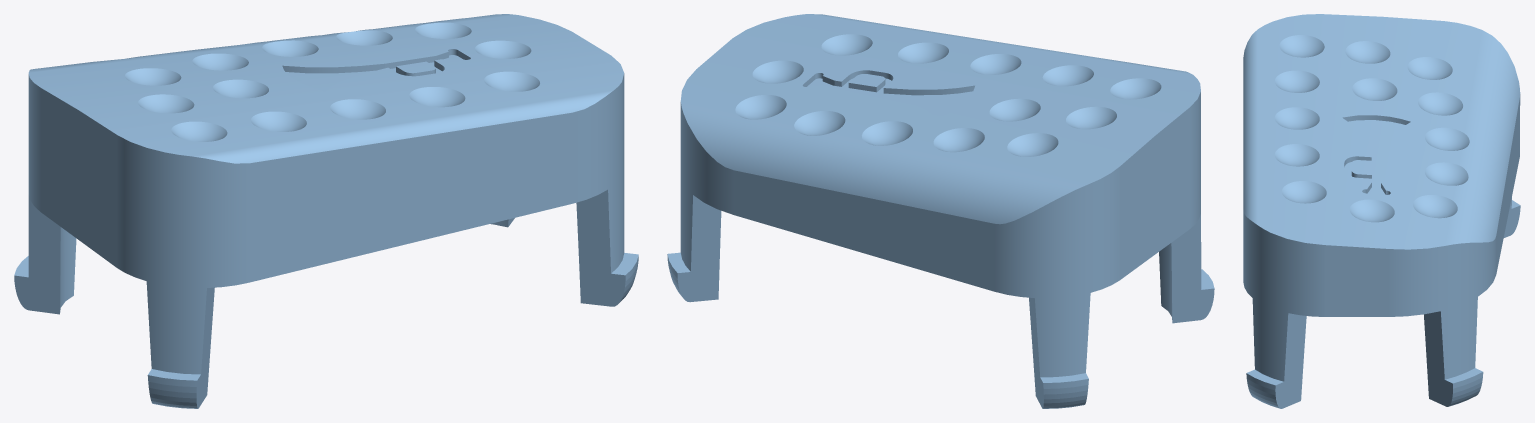
3 renders of one model, left to right at view 1: azimuth 30°, elevation 25°; view 2: azimuth 150°, elevation 25°; view 3: azimuth 270°, elevation 25°, orthographic. The views are drawn at different scales.
Visible parts, largest first — view 1: part_0; view 2: part_0; view 3: part_0.
Boxes of the visible parts, <box> form: part_0: <box>14,14,638,408</box>; part_0: <box>667,14,1214,408</box>; part_0: <box>1243,14,1520,408</box>.
Size of the model in its own units: 38.92 by 18.99 by 23.32.
